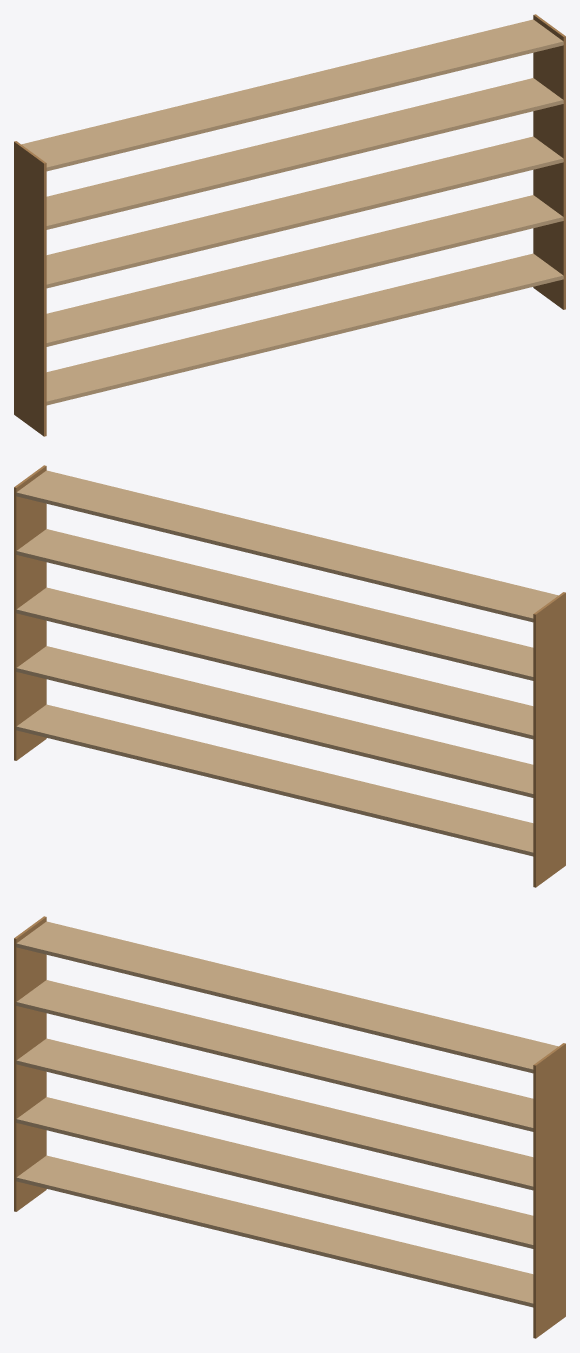
The picture shows the model from 3 angles, top to bottom: view 1: azimuth 30°, elevation 25°; view 2: azimuth 150°, elevation 25°; view 3: azimuth 330°, elevation 25°; orthographic projection.
Parts seen in each view (by area): view 1: estante_supply_1; view 2: estante_supply_1; view 3: estante_supply_1.
Part boxes in pixels (left/top/right/bottom): estante_supply_1: left=14, top=14, right=565, bottom=436; estante_supply_1: left=14, top=465, right=565, bottom=887; estante_supply_1: left=14, top=916, right=565, bottom=1338.
Size of the model in its own units: 4.2 by 0.42 by 2.1.
